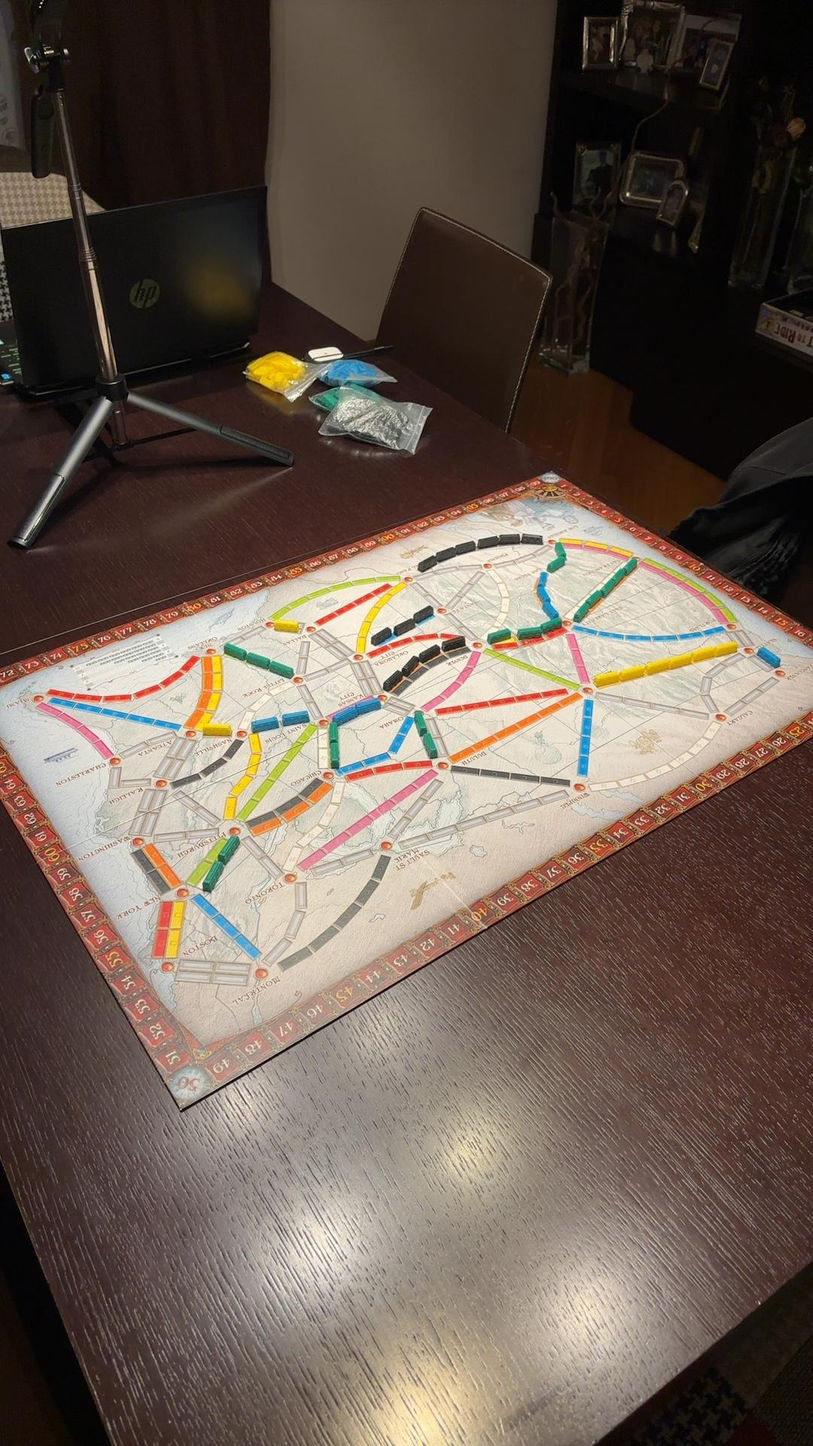black_train: (370, 627, 392, 647), (442, 636, 466, 653), (382, 670, 401, 690), (392, 618, 413, 636), (419, 645, 440, 662), (414, 606, 433, 624), (402, 657, 420, 675), (417, 555, 437, 571), (522, 532, 544, 545), (455, 541, 476, 554), (478, 536, 499, 549), (437, 546, 455, 560), (499, 533, 520, 545)
blue_train: (757, 647, 781, 667), (251, 716, 279, 733), (356, 698, 381, 715), (332, 706, 355, 724), (282, 711, 308, 726)
green_train: (202, 860, 224, 892), (266, 659, 294, 678), (218, 837, 239, 862), (548, 548, 565, 572), (224, 642, 246, 660), (422, 734, 437, 758), (487, 629, 510, 643), (415, 710, 427, 734)
yellow_train: (269, 618, 299, 633), (199, 724, 231, 736), (617, 667, 644, 681), (595, 672, 619, 686), (597, 679, 607, 685)
